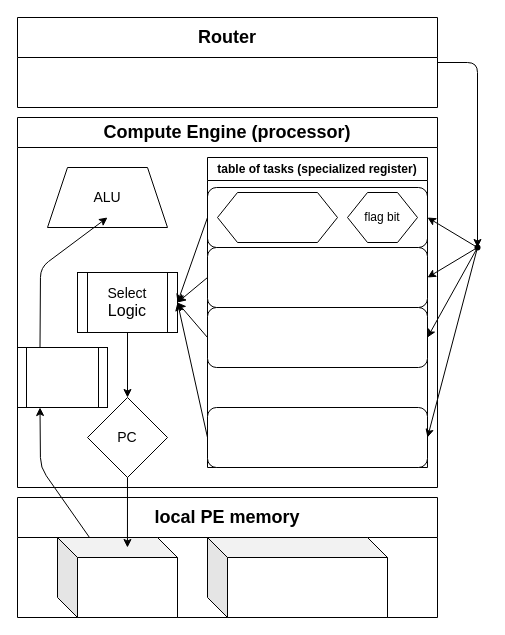
This 505x635 diagram has some shape labels left out. Here are the shapes that lost their labels. From the top down, the centre of each, then its label:
point (277, 217): Mem Addr (code)
point (62, 377): Decode
point (117, 577): Code
point (297, 577): Data
